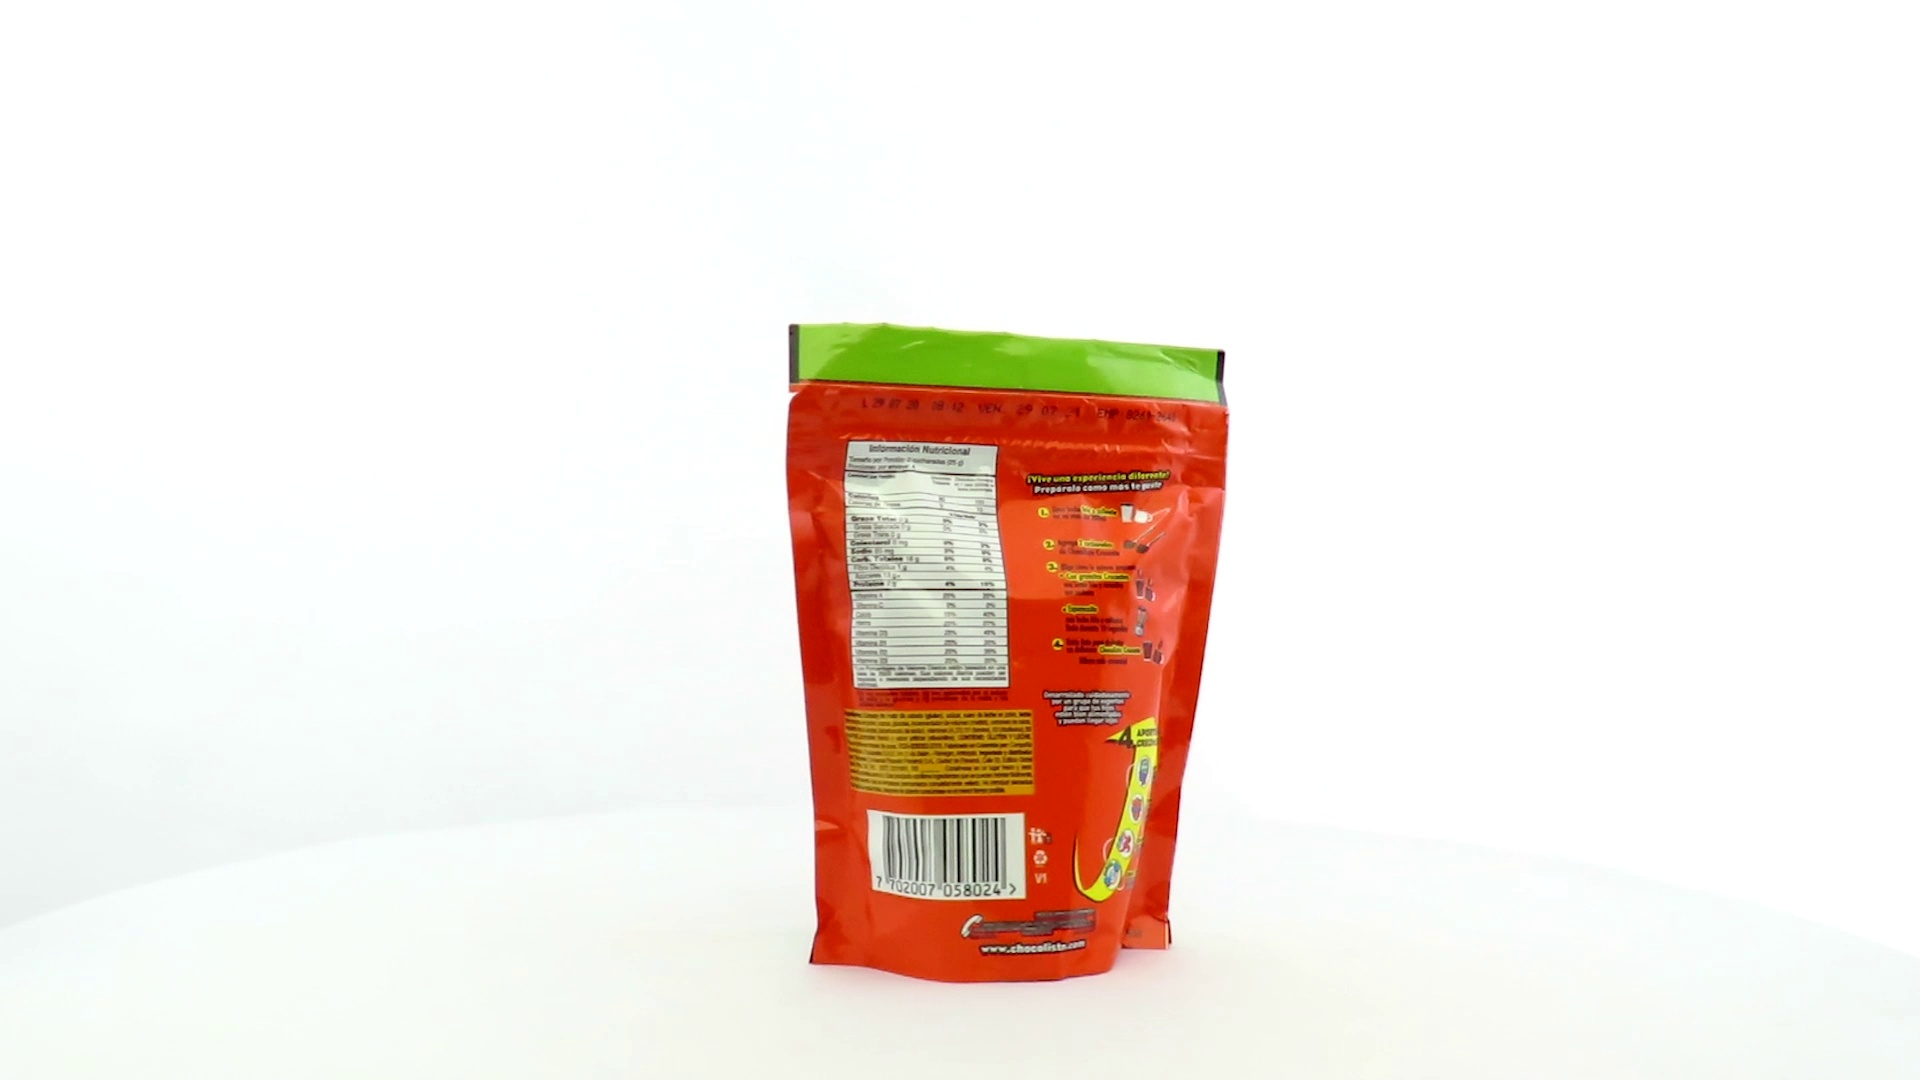COL0170102DYP10000: (781, 316, 1236, 990)
